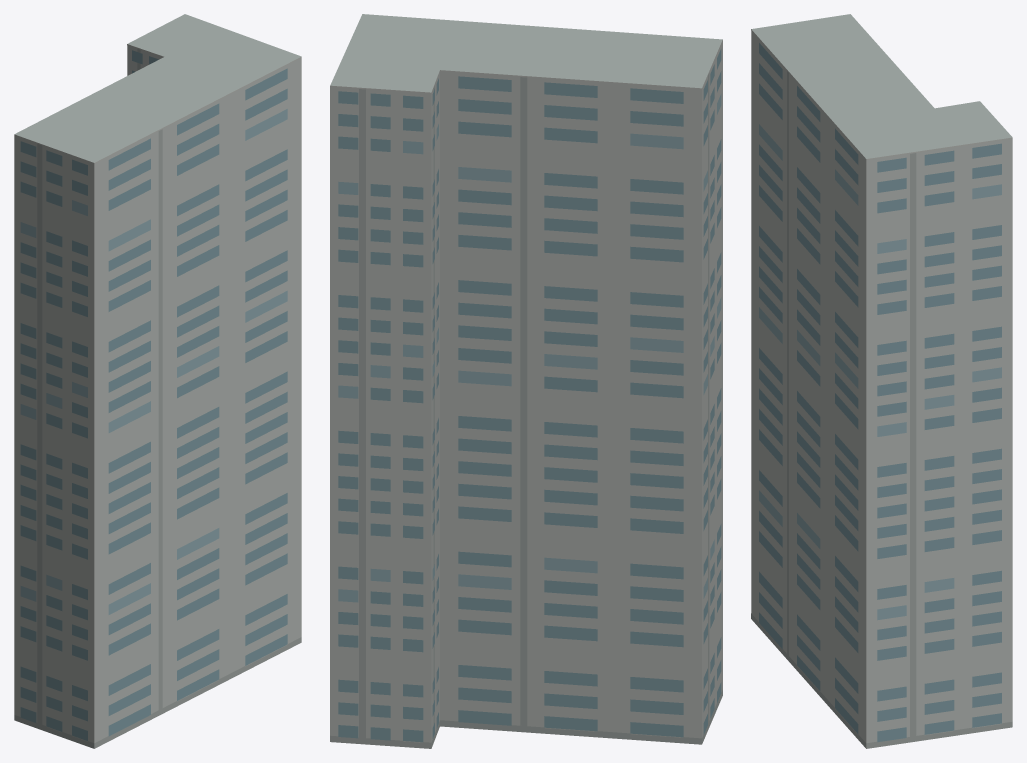
File: residential-25ae5261-b734-439a-aacc-4393a2118993.glb
3 views of the same model, side by side, from view 1: azimuth 30°, elevation 25°; view 2: azimuth 150°, elevation 25°; view 3: azimuth 270°, elevation 25° (orthographic). The views are drawn at different scales.
Visible parts, largest first — view 1: residential-25ae5261-b734-439a-aacc-4393a2118993.tmp; view 2: residential-25ae5261-b734-439a-aacc-4393a2118993.tmp; view 3: residential-25ae5261-b734-439a-aacc-4393a2118993.tmp.
Part boxes in pixels (left/top/right/bottom): residential-25ae5261-b734-439a-aacc-4393a2118993.tmp: left=14, top=14, right=301, bottom=748; residential-25ae5261-b734-439a-aacc-4393a2118993.tmp: left=330, top=14, right=722, bottom=748; residential-25ae5261-b734-439a-aacc-4393a2118993.tmp: left=751, top=14, right=1012, bottom=748.
Bounding box in the file's own units: 63.31 × 120 × 48.25.
